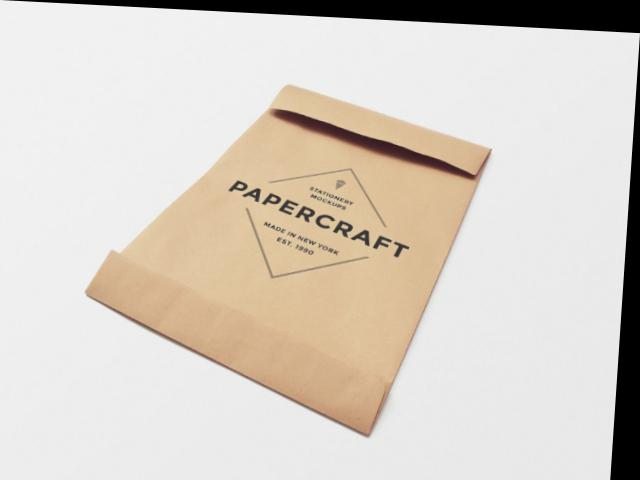package: (85, 80, 494, 438)
